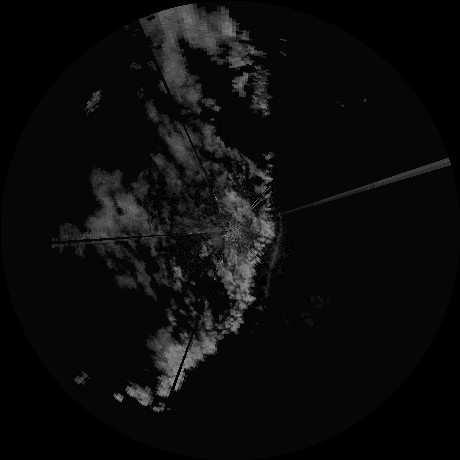frontgust: (262, 248, 279, 307), (274, 212, 286, 246)
